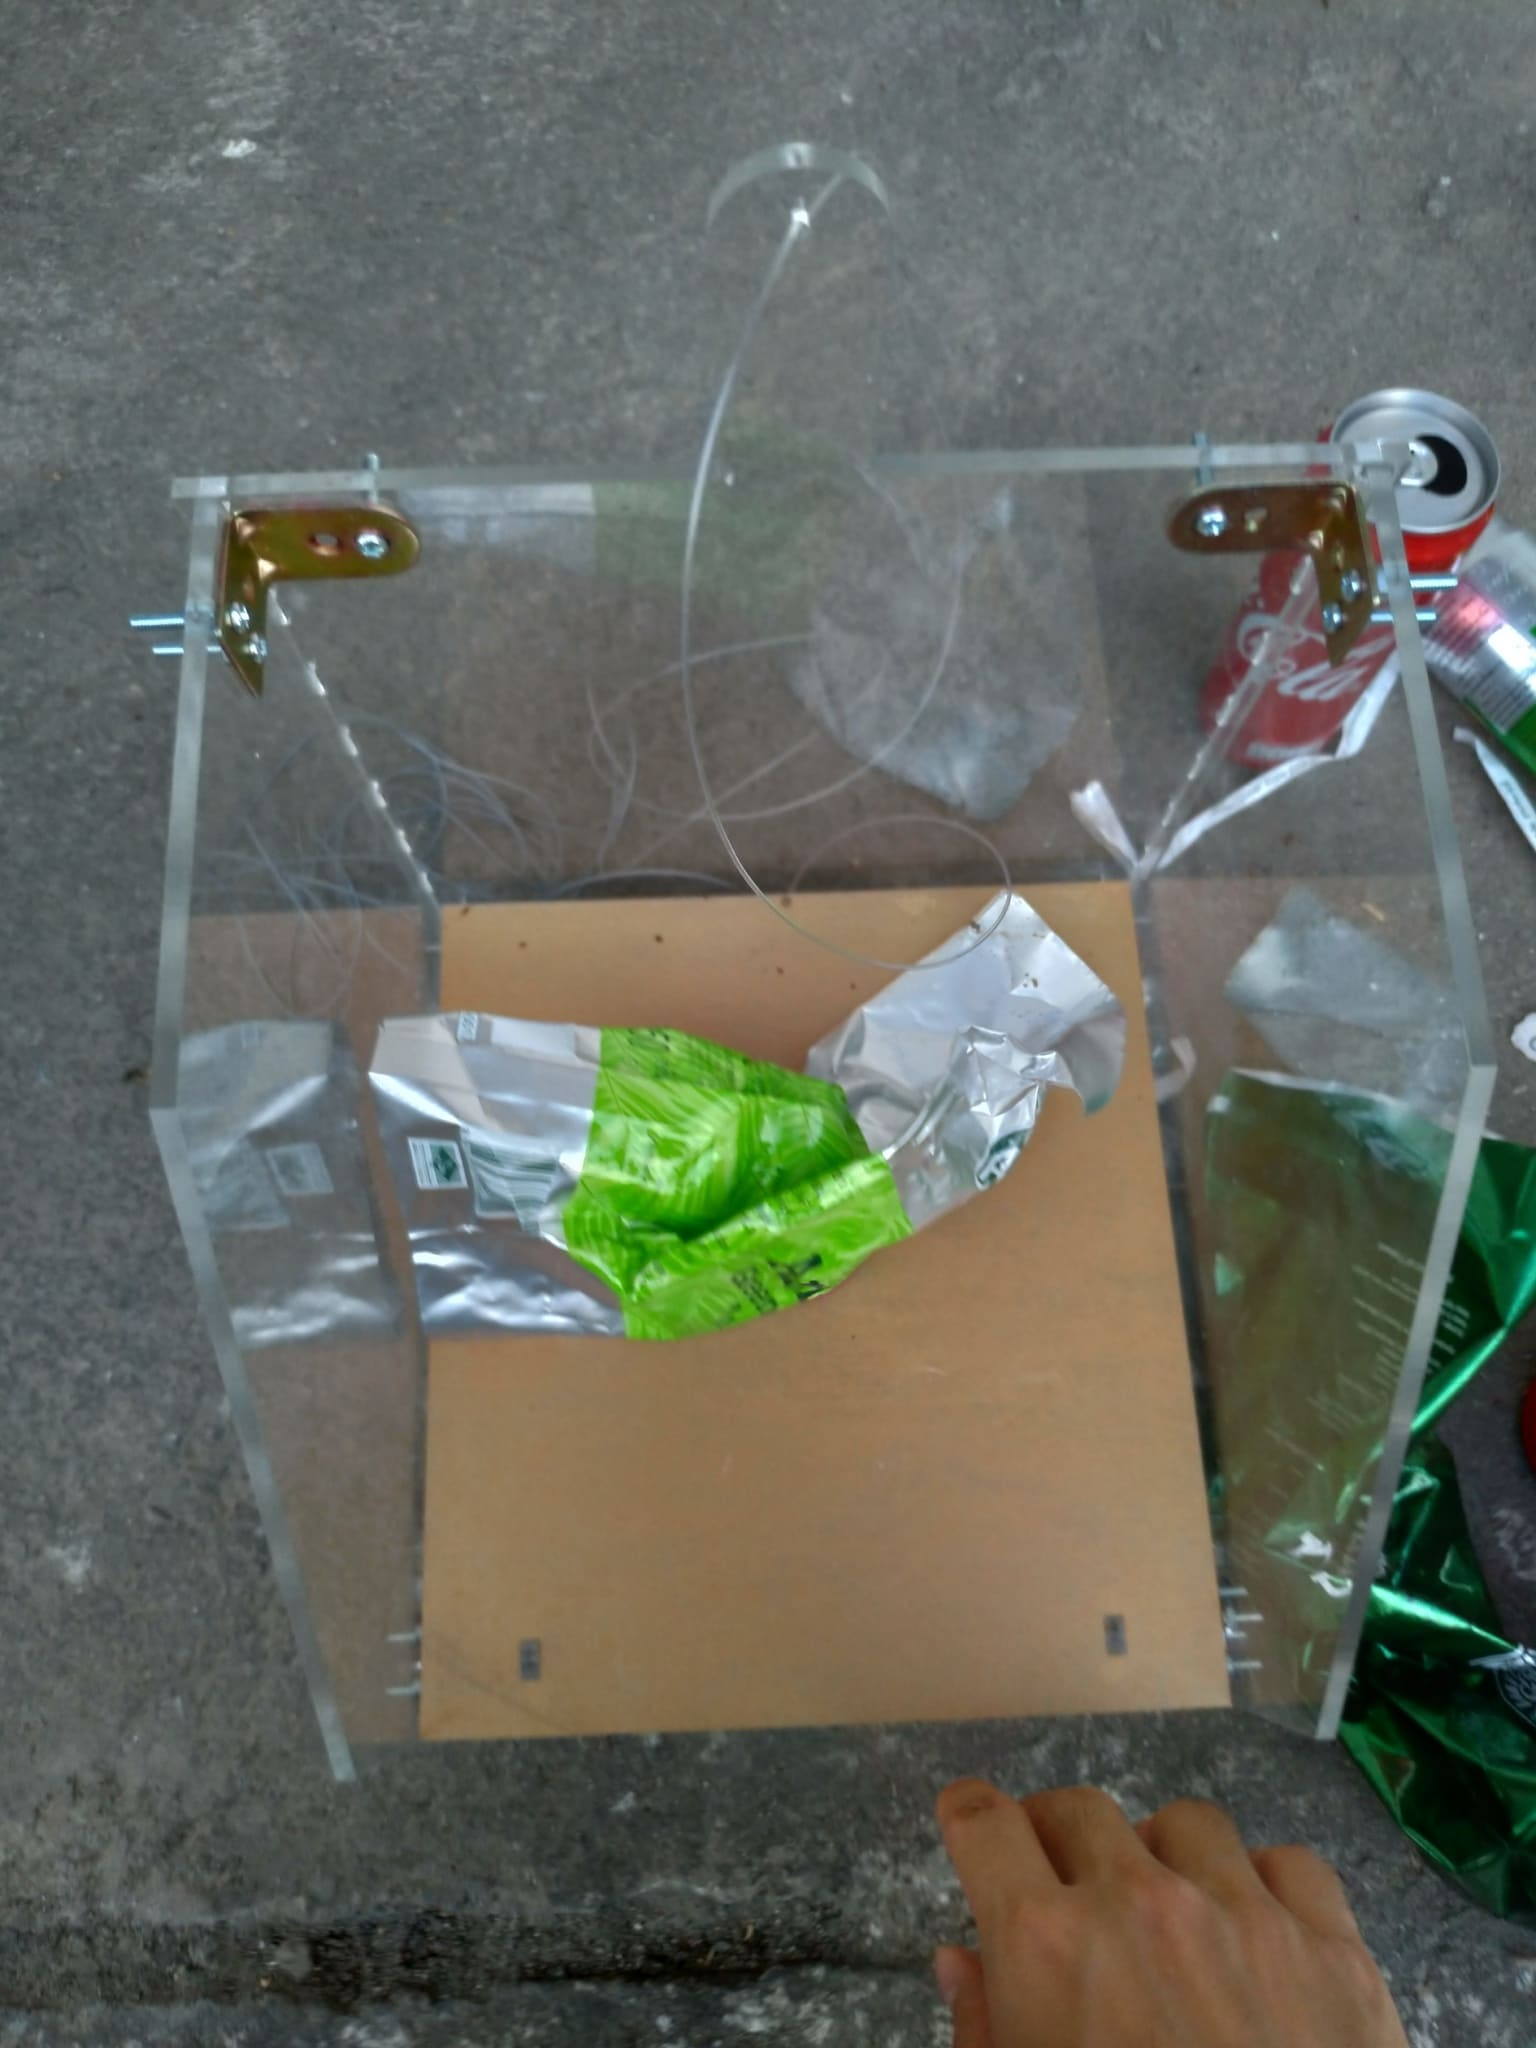AlCan: (1217, 384, 1491, 785)
Others: (366, 898, 1120, 1334), (1179, 1051, 1536, 1913)
